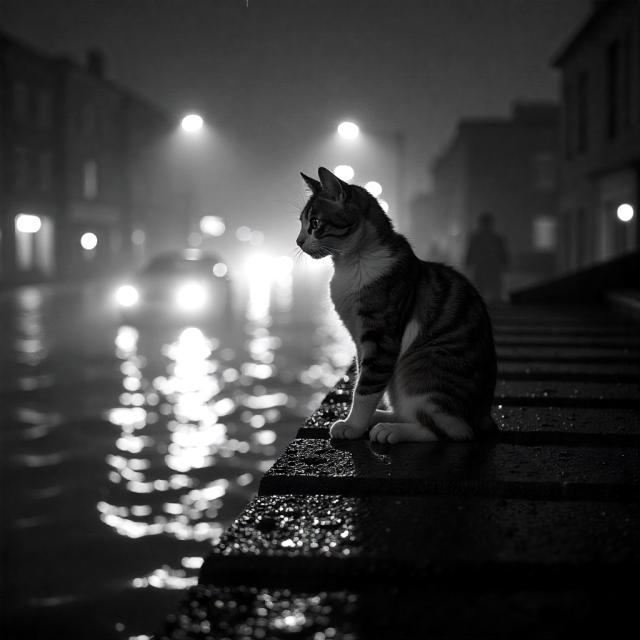cat: (278, 152, 515, 466)
civilian: (462, 199, 516, 305)
